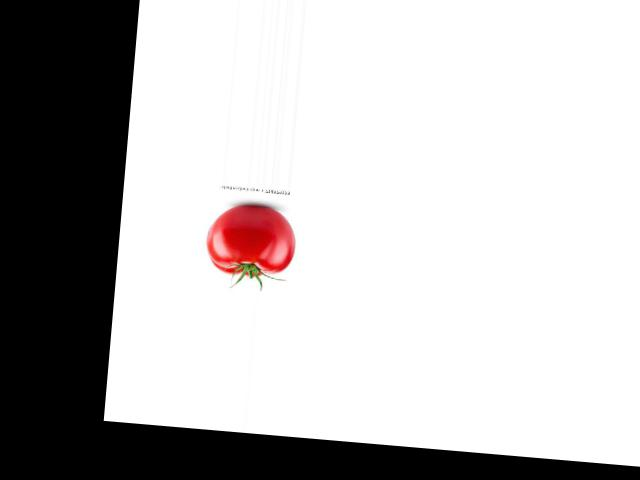tomato: (204, 202, 298, 278)
